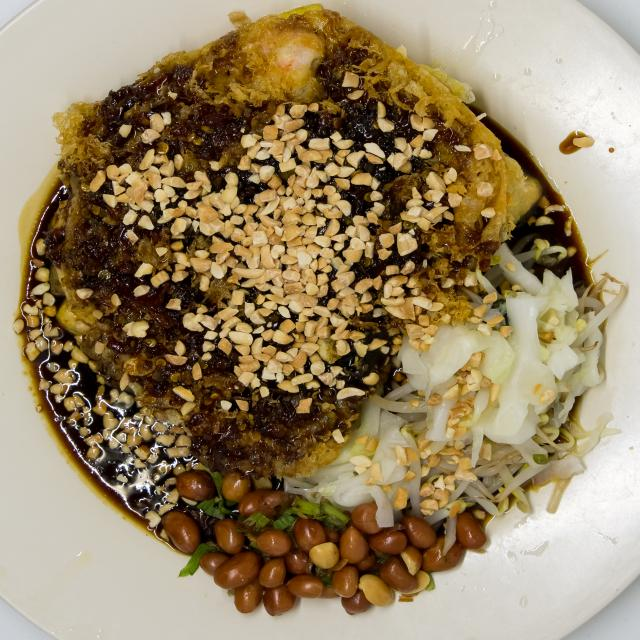Tahu-Telur: (12, 31, 609, 621)
